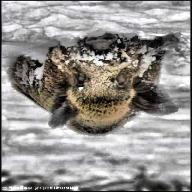boar: (6, 25, 180, 133)
